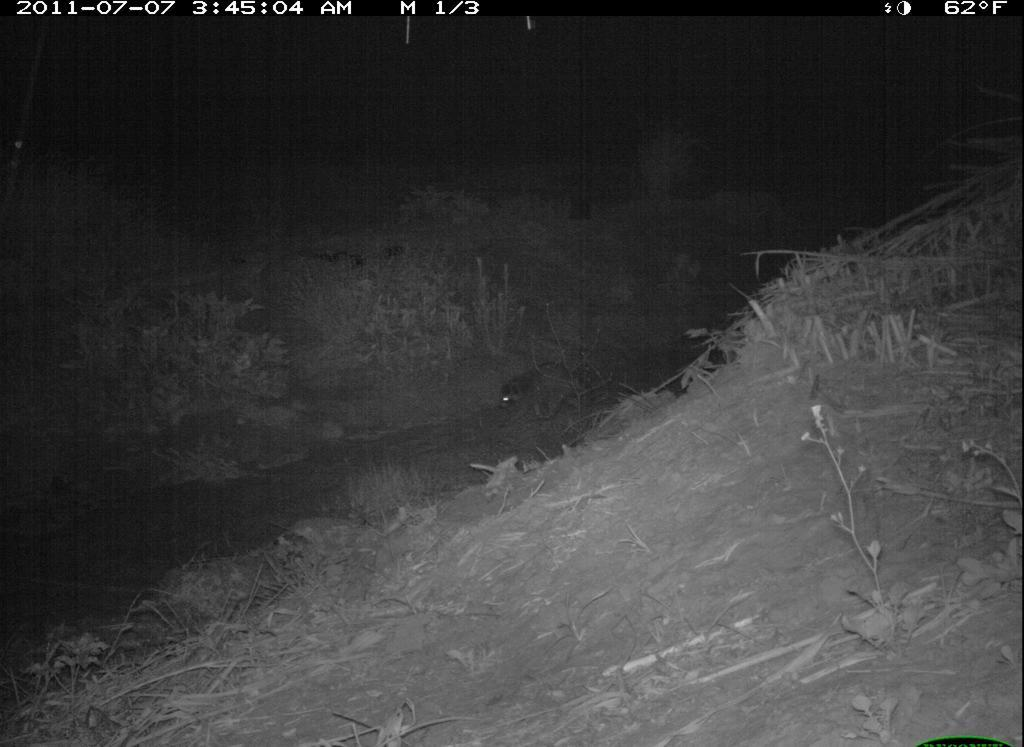raccoon: (493, 358, 601, 434)
